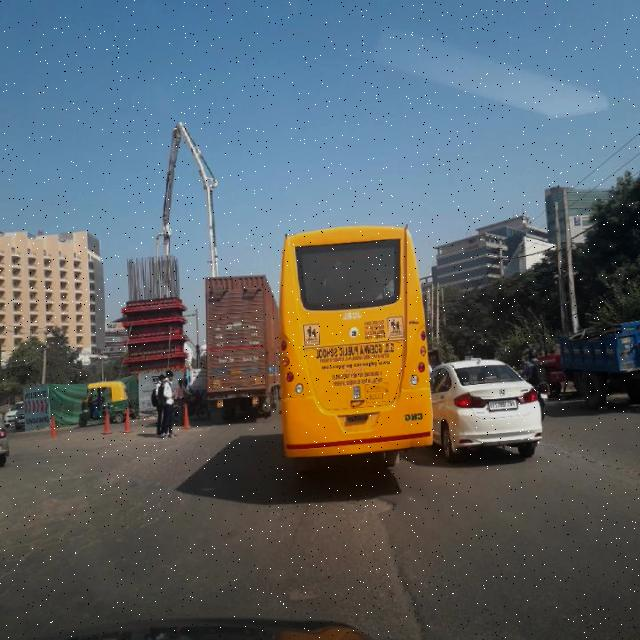D20: (18, 458, 196, 573)
D40: (357, 487, 402, 530)
